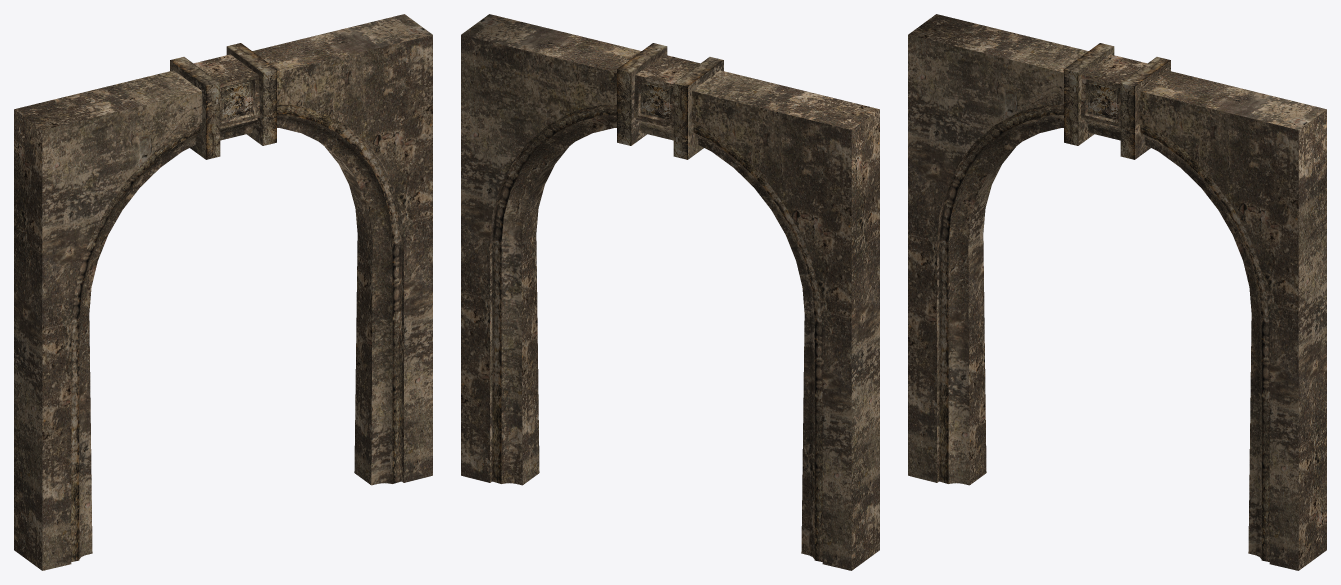
Rendered from materials_5_wall_rectangle_11.fbx.
3 renders of one model, left to right at view 1: azimuth 30°, elevation 25°; view 2: azimuth 150°, elevation 25°; view 3: azimuth 330°, elevation 25°, orthographic.
Visible parts, largest first — view 1: materials_5_wall_rectangle_11; view 2: materials_5_wall_rectangle_11; view 3: materials_5_wall_rectangle_11.
Part boxes in pixels (bbox=[...]): materials_5_wall_rectangle_11: bbox=[14, 14, 432, 570]; materials_5_wall_rectangle_11: bbox=[461, 14, 879, 570]; materials_5_wall_rectangle_11: bbox=[908, 14, 1326, 570].
Size of the model in its own units: 426 by 468 by 68.6.
